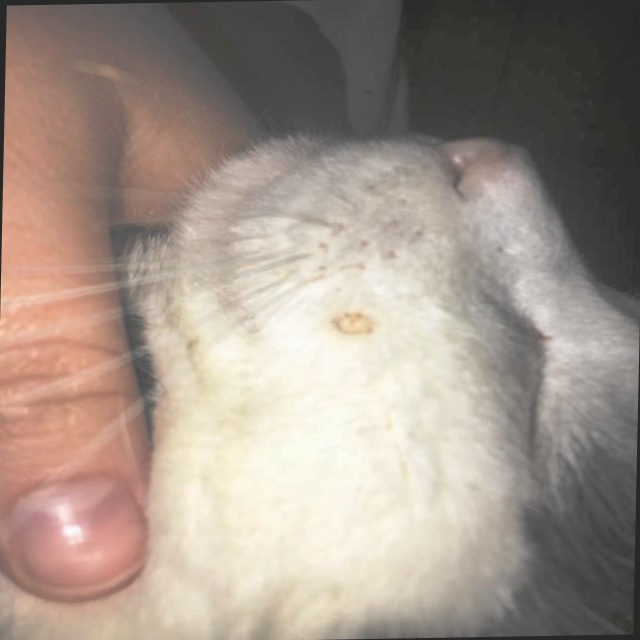lump_and_bump: (335, 314, 375, 337)
